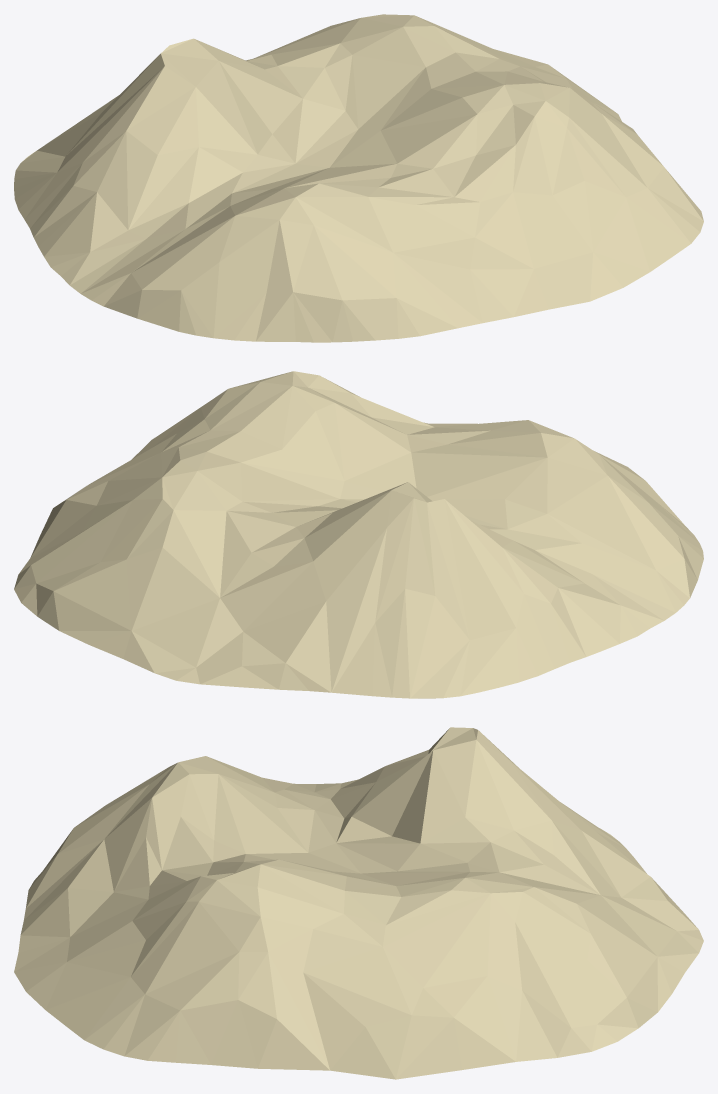
File: Arena-1.FBX
The picture shows the model from 3 angles, top to bottom: view 1: azimuth 30°, elevation 25°; view 2: azimuth 150°, elevation 25°; view 3: azimuth 270°, elevation 25°; orthographic projection. The views are drawn at different scales.
Bounding box in the file's own units: 44.26 × 10.16 × 43.64.
1 material, 1 textured.
